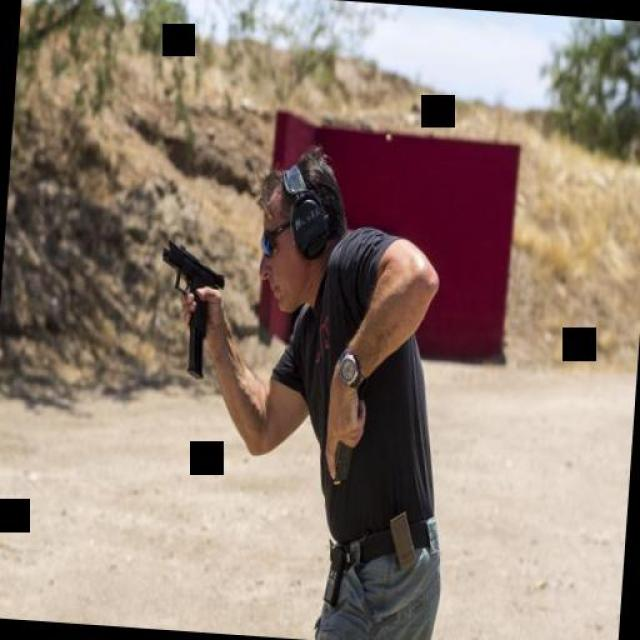gun: (152, 234, 226, 338)
